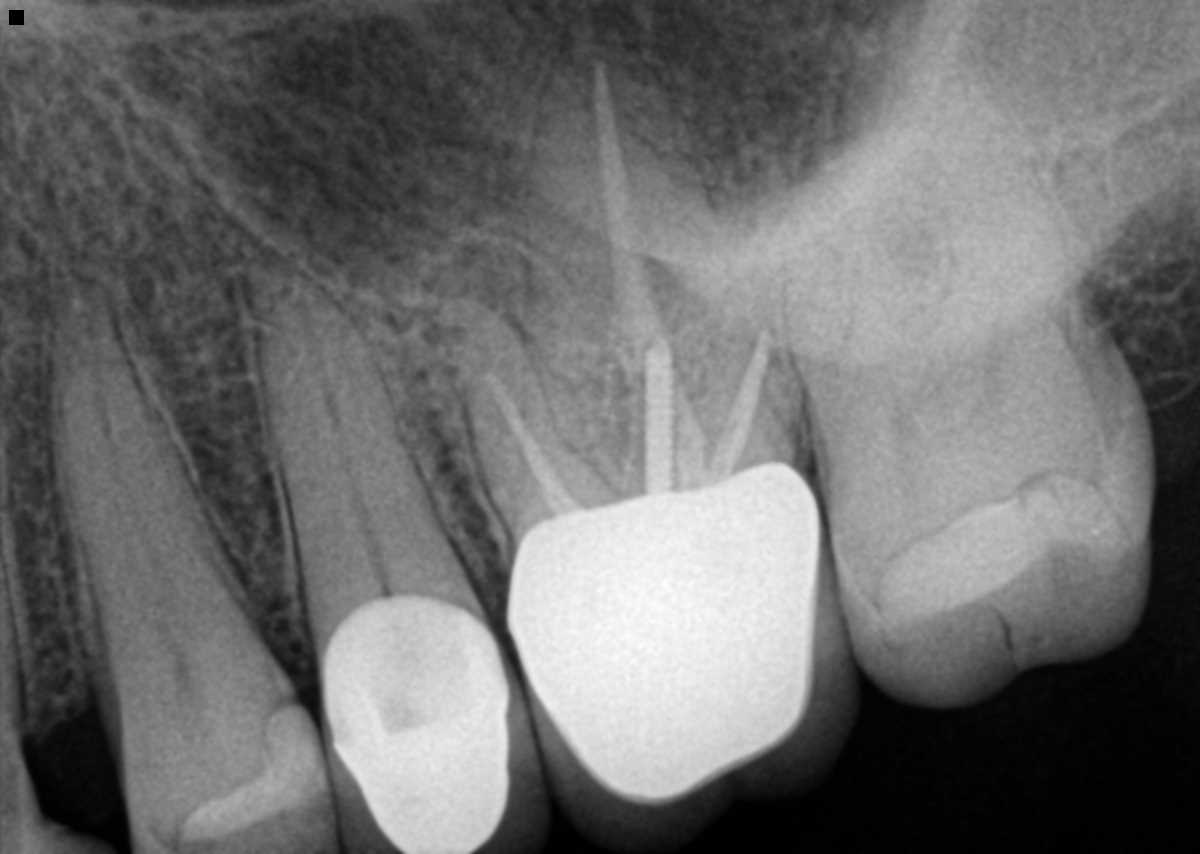Apical Lesion: (414, 232, 552, 408)
Distal Root: (888, 62, 1072, 308), (691, 226, 838, 470)
Main Canal: (86, 295, 187, 669), (292, 297, 391, 601)
Main Root: (247, 250, 470, 626), (58, 280, 268, 679)
Mesial Root: (784, 122, 927, 438), (453, 297, 618, 544), (0, 529, 25, 731)
Palatal Root: (520, 23, 771, 531), (837, 0, 1100, 390)
Root Canal Filling: (590, 60, 671, 380), (485, 370, 587, 513), (703, 333, 770, 481)
